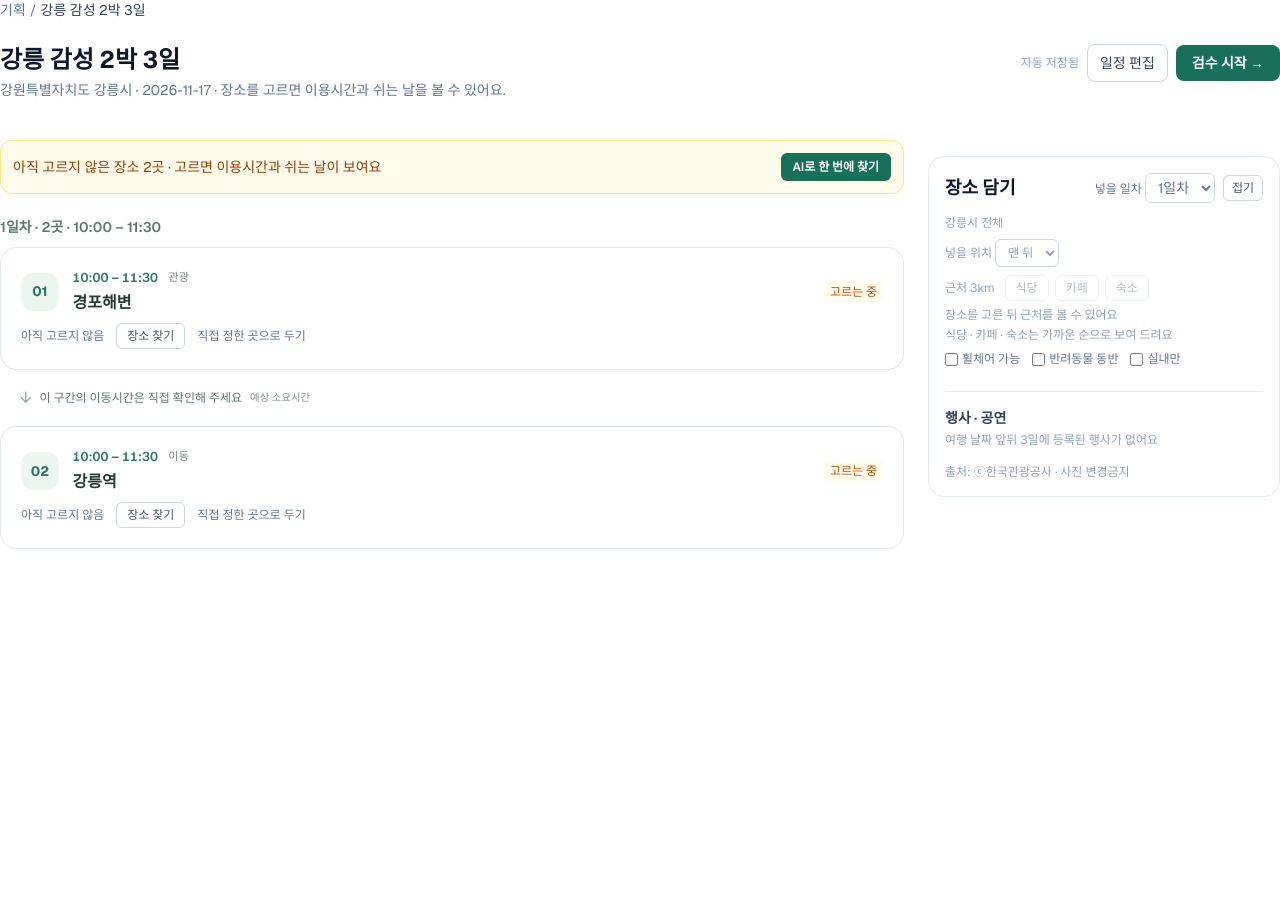
고르지 않은 줄 (UI-S2-034 · UI-S2-023) › 🔴 검수 시작 창의 [AI로 한 번에 찾기]는 창을 닫고 같은 찾기를 돌린다
Click the button "검수 시작 →" at (1228,63), box [1176,45,1279,81]
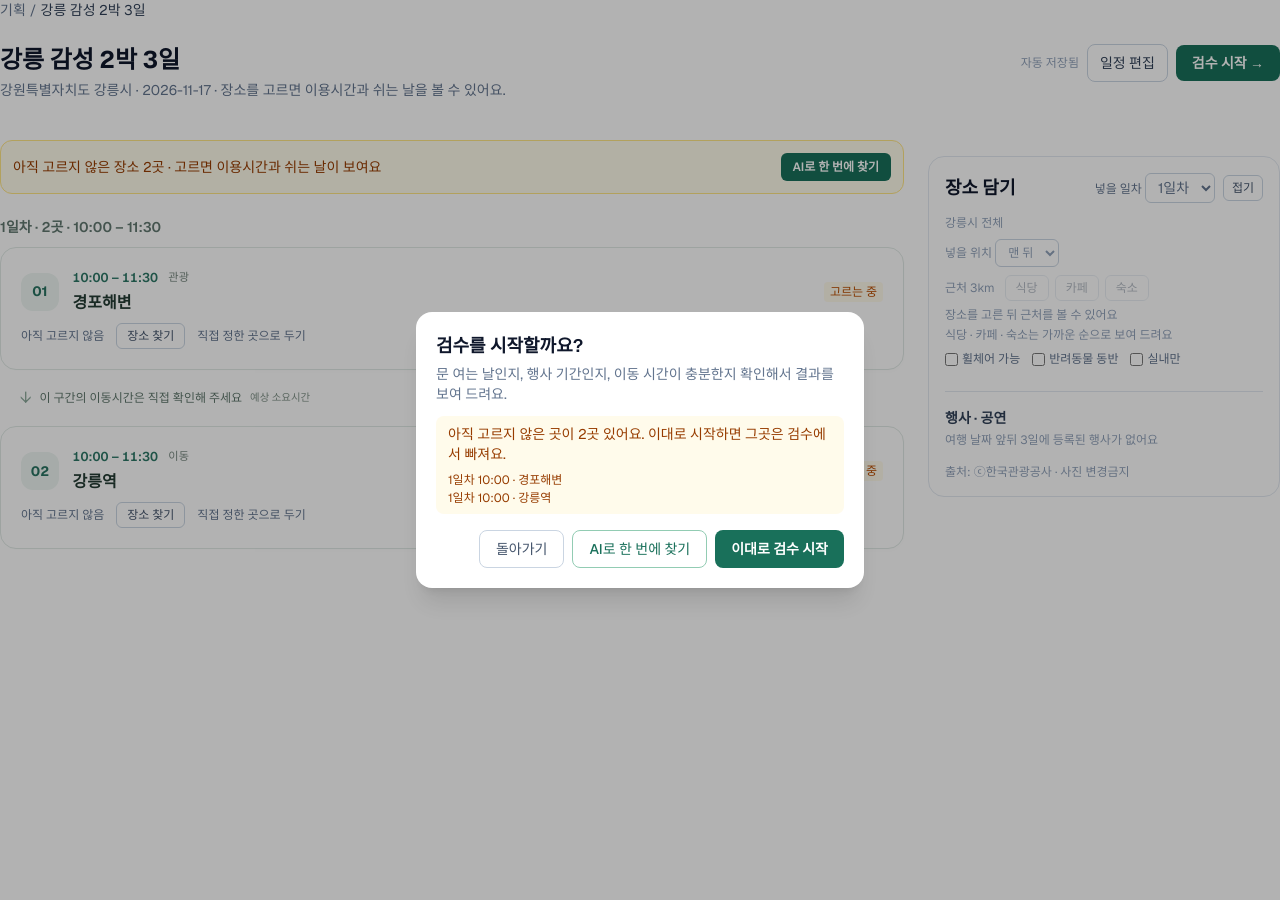
Expected: the text "1일차 10:00 · 경포해변" is shown, [448,472,562,488]
Click the button "AI로 한 번에 찾기" at (640,549), box [572,530,707,568]
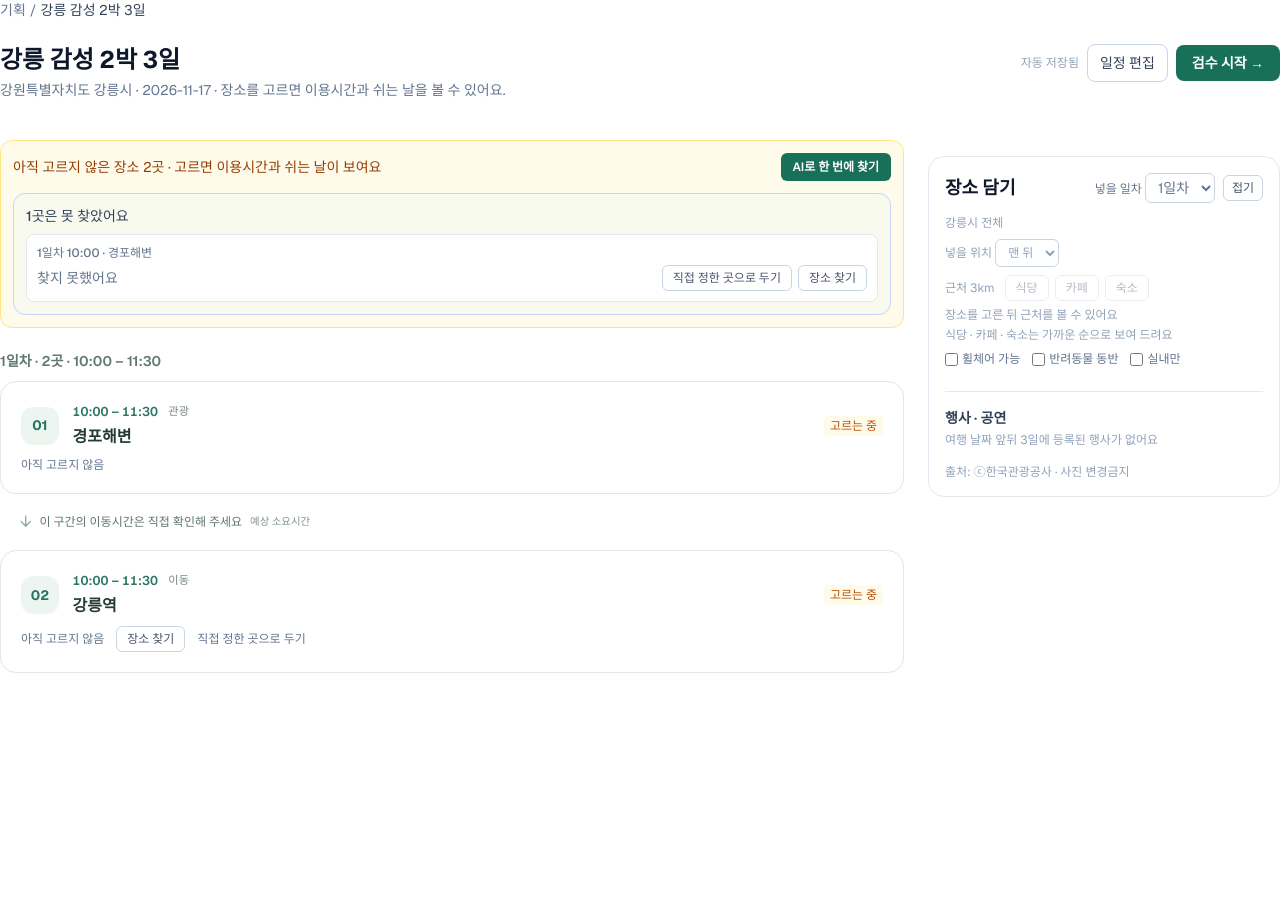
Expected: the text "검수를 시작할까요?" is gone
Expected: the text "1곳은 못 찾았어요" is shown, [26,206,129,226]
Expected: the list item "1일차 10:00 · 경포해변 찾지 못했어요 직접 정한 곳으로 두기 장소 찾기" is shown, [26,234,878,302]
